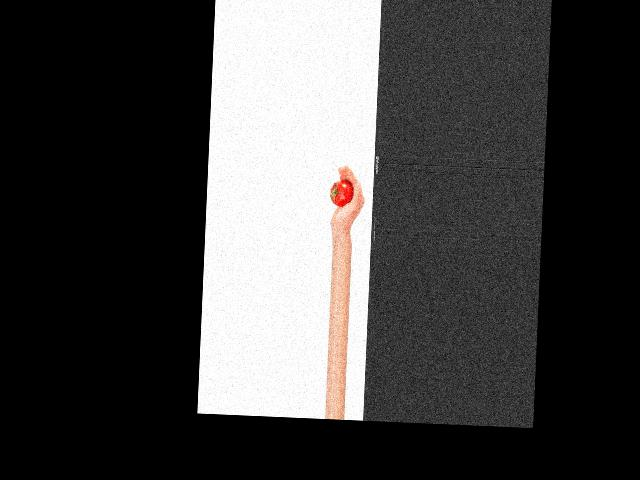tomato: (330, 181, 353, 207)
